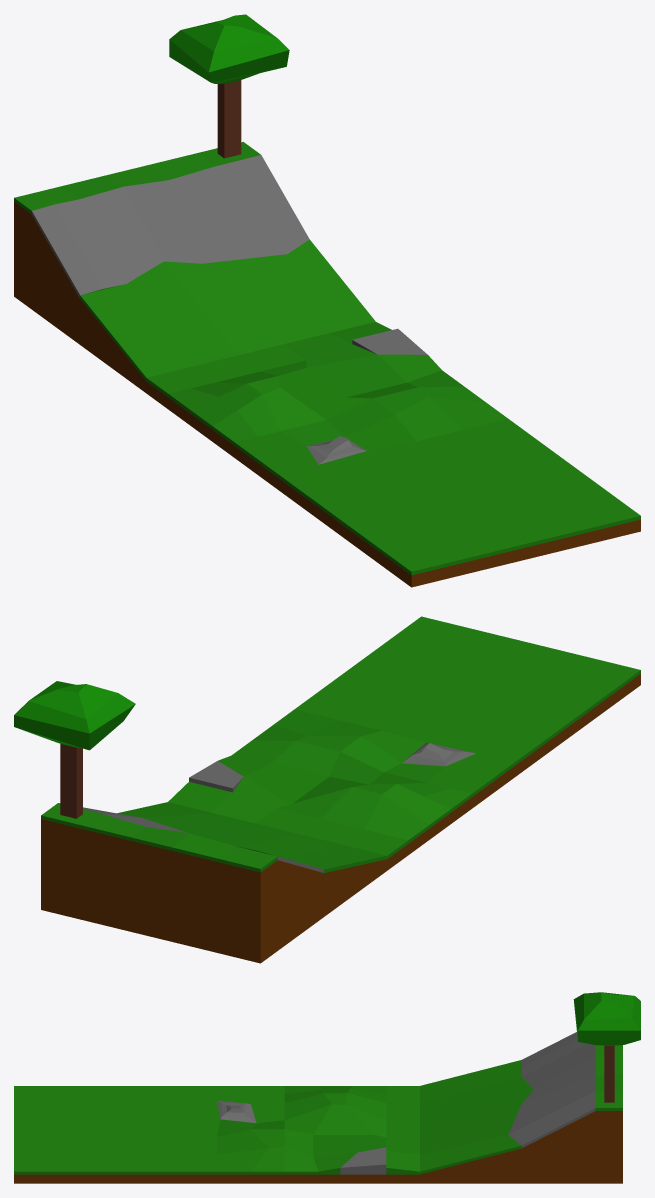
File: TerrainMineCraft.fbx
3 renders of one model, top to bottom at view 1: azimuth 30°, elevation 25°; view 2: azimuth 150°, elevation 25°; view 3: azimuth 270°, elevation 25°, orthographic. The views are drawn at different scales.
Visible parts, largest first — view 1: Cube; view 2: Cube; view 3: Cube.
Boxes of the visible parts, <box> form: Cube: <box>14,14,640,587</box>; Cube: <box>14,616,640,963</box>; Cube: <box>14,992,640,1183</box>.
Size of the model in its own units: 4290 by 3894 by 12351.
